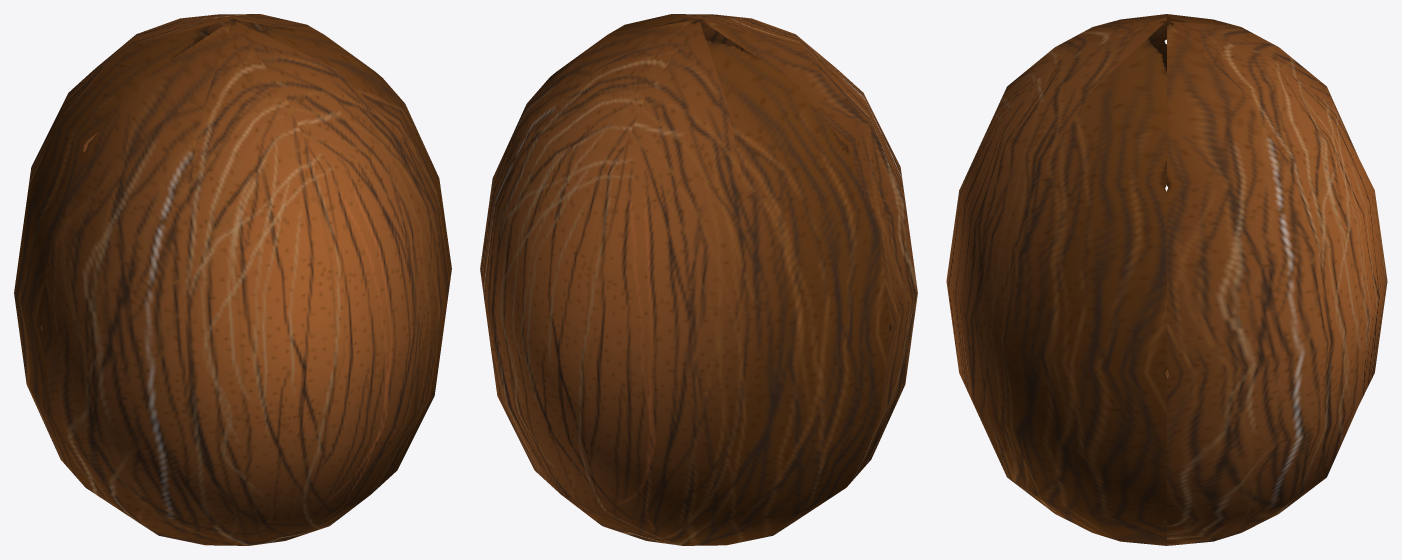
Rendered from cocunet.FBX.
The picture shows the model from 3 angles, left to right: view 1: azimuth 30°, elevation 25°; view 2: azimuth 150°, elevation 25°; view 3: azimuth 270°, elevation 25°; orthographic projection.
Visible parts, largest first — view 1: Cocunet; view 2: Cocunet; view 3: Cocunet.
Part boxes in pixels (x1=…): Cocunet: x1=14, y1=14, x2=451, y2=545; Cocunet: x1=480, y1=14, x2=917, y2=545; Cocunet: x1=946, y1=14, x2=1387, y2=545.
Bounding box in the file's own units: 9.96 × 12.79 × 9.96.
